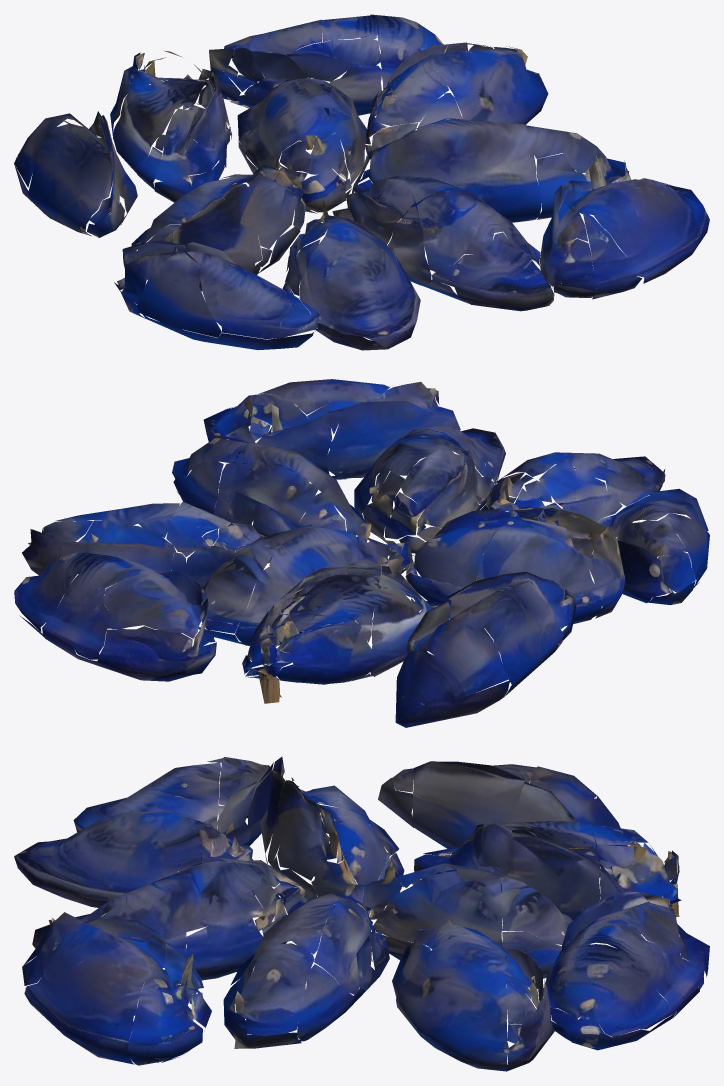
Rendered from mussel_bed_e.glb.
The picture shows the model from 3 angles, top to bottom: view 1: azimuth 30°, elevation 25°; view 2: azimuth 150°, elevation 25°; view 3: azimuth 270°, elevation 25°; orthographic projection. The views are drawn at different scales.
Visible parts, largest first — view 1: tripo_node_c5ae0b98-082d-4e40-8fba-6c9220249d6e; view 2: tripo_node_c5ae0b98-082d-4e40-8fba-6c9220249d6e; view 3: tripo_node_c5ae0b98-082d-4e40-8fba-6c9220249d6e.
Part boxes in pixels (<box>): tripo_node_c5ae0b98-082d-4e40-8fba-6c9220249d6e: <box>14,14,709,350</box>; tripo_node_c5ae0b98-082d-4e40-8fba-6c9220249d6e: <box>14,379,709,727</box>; tripo_node_c5ae0b98-082d-4e40-8fba-6c9220249d6e: <box>14,756,709,1071</box>.
Size of the model in its own units: 0.9211 by 0.1824 by 0.9997.
Materials: 1 (1 with a texture image).
